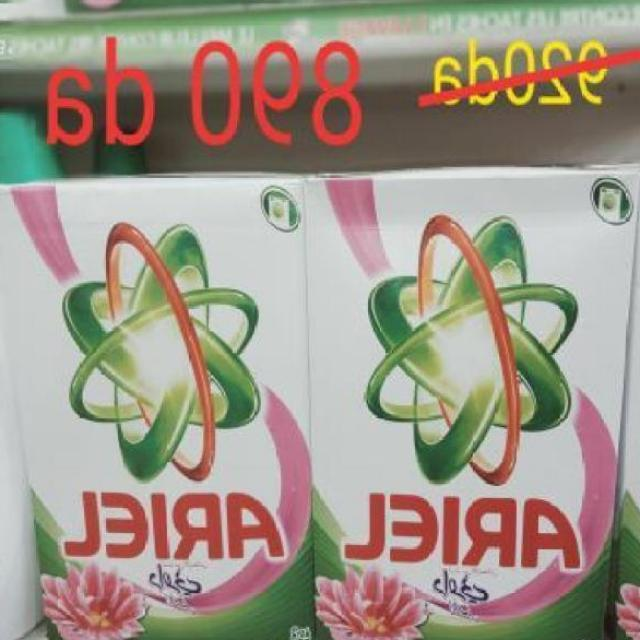Detergent: (308, 169, 640, 640), (158, 174, 311, 640)
